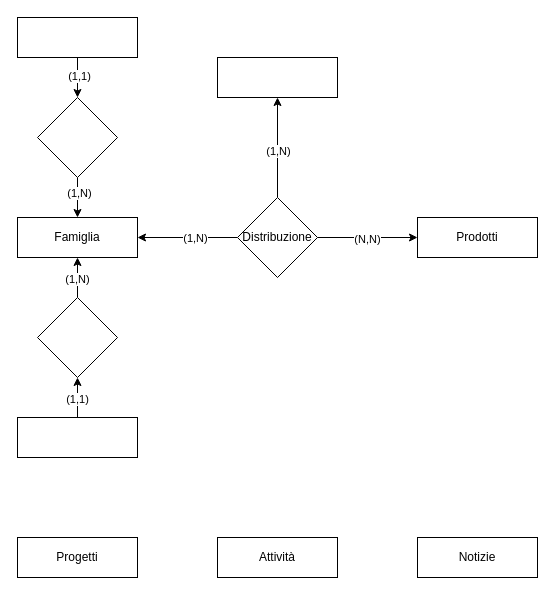
Image size: 555x595. Some labels were removed from this diagram. Each missing label, with the centre of its shape:
"Appuntamento" goes at pixel 277 77.
"Documenti" goes at pixel 77 37.
"Membri" goes at pixel 77 437.
